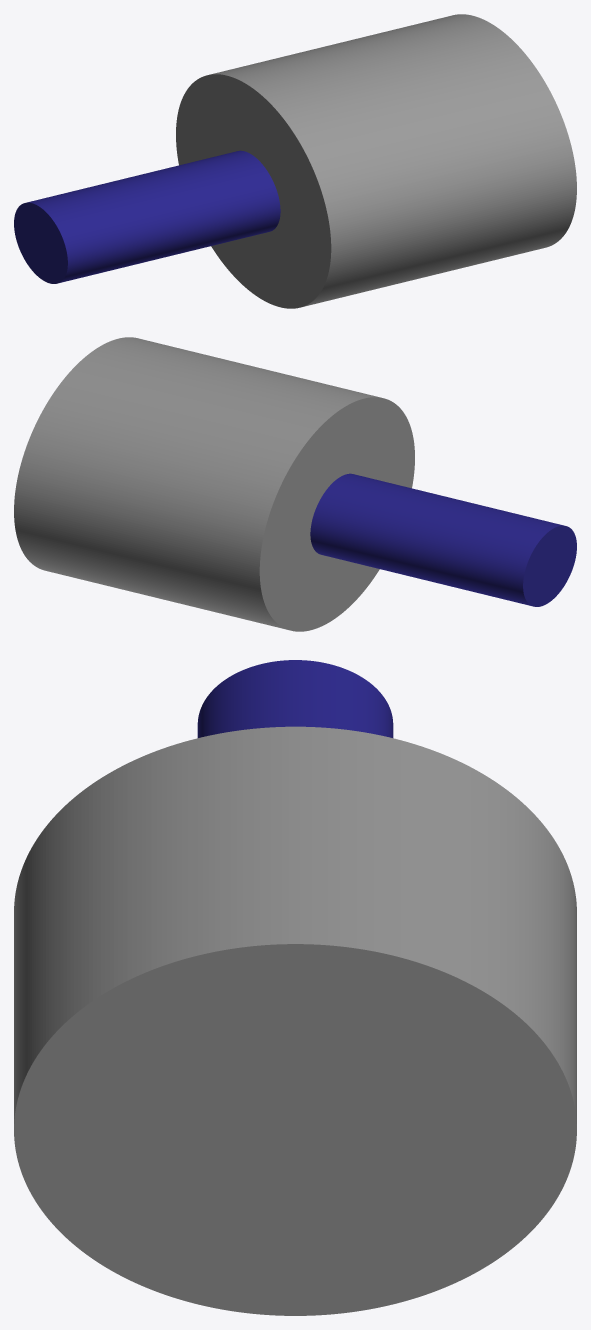
Rendered from Tank(2).fbx.
The picture shows the model from 3 angles, top to bottom: view 1: azimuth 30°, elevation 25°; view 2: azimuth 150°, elevation 25°; view 3: azimuth 270°, elevation 25°; orthographic projection. The views are drawn at different scales.
Parts seen in each view (by area): view 1: Cylinder, Cylinder.001; view 2: Cylinder, Cylinder.001; view 3: Cylinder, Cylinder.001.
Part boxes in pixels (bbox=[...]): Cylinder: bbox=[176, 14, 576, 308]; Cylinder.001: bbox=[14, 150, 280, 283]; Cylinder: bbox=[14, 337, 414, 631]; Cylinder.001: bbox=[310, 473, 576, 606]; Cylinder: bbox=[14, 726, 576, 1315]; Cylinder.001: bbox=[197, 660, 393, 737].
Bounding box in the file's own units: 68.04 × 29.1 × 39.92.
